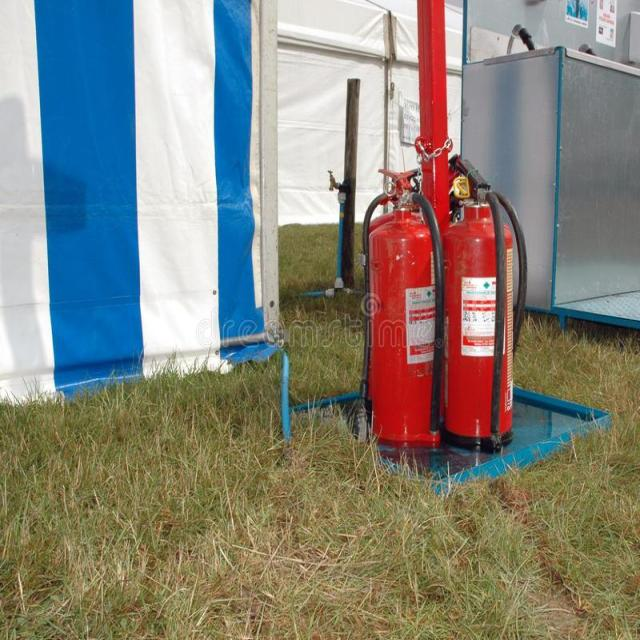fire_extinguisher: (428, 147, 534, 449), (353, 157, 449, 454)
